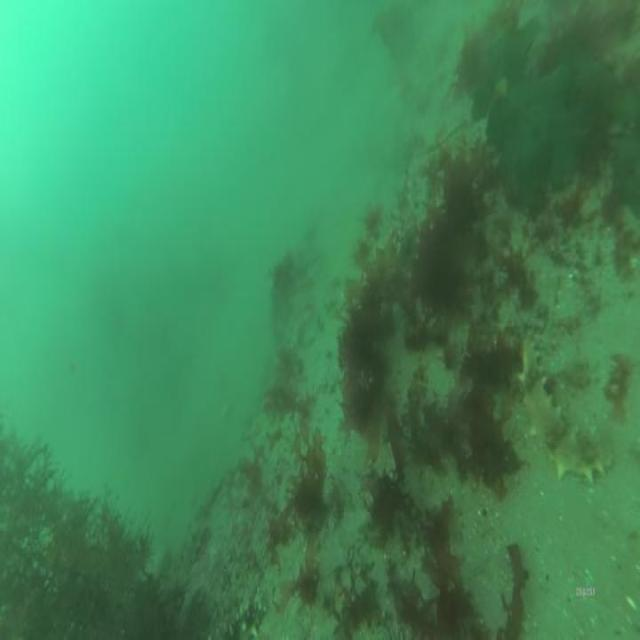holothurian: (518, 331, 617, 488)
waterweeds: (298, 4, 634, 630), (0, 434, 181, 640)
